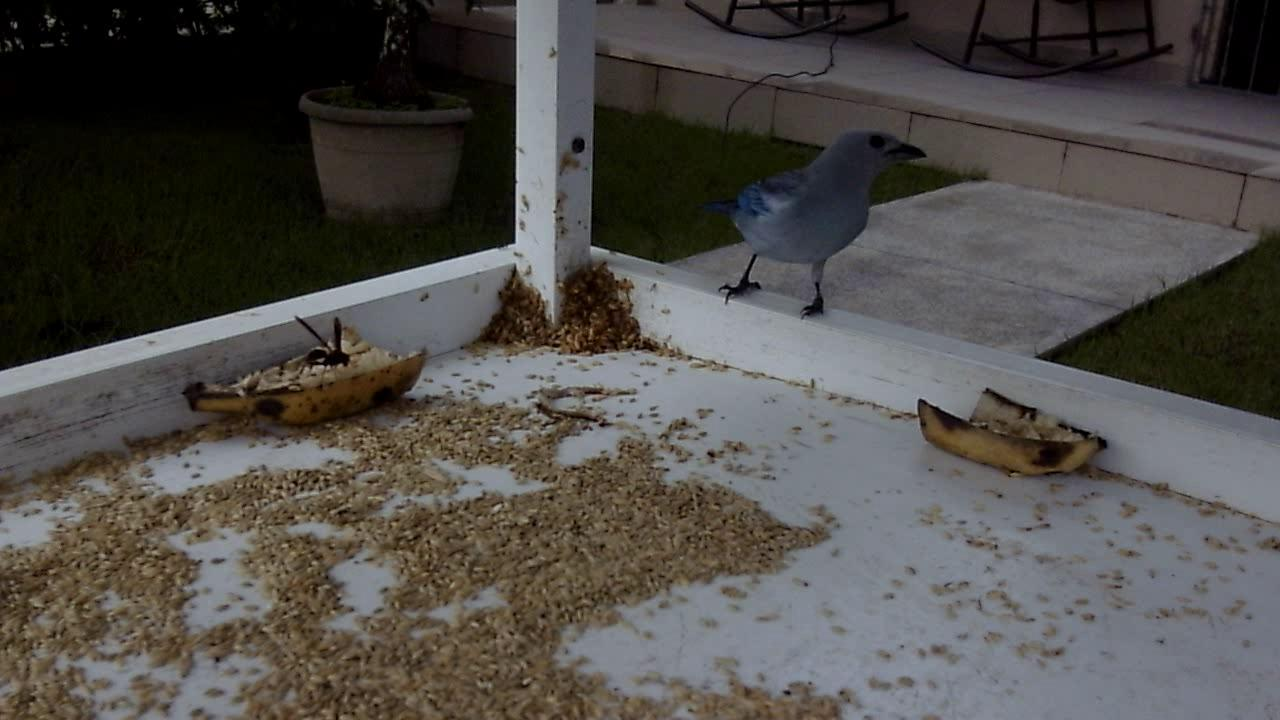sanhaco_da_amazonia: (685, 116, 928, 327)
